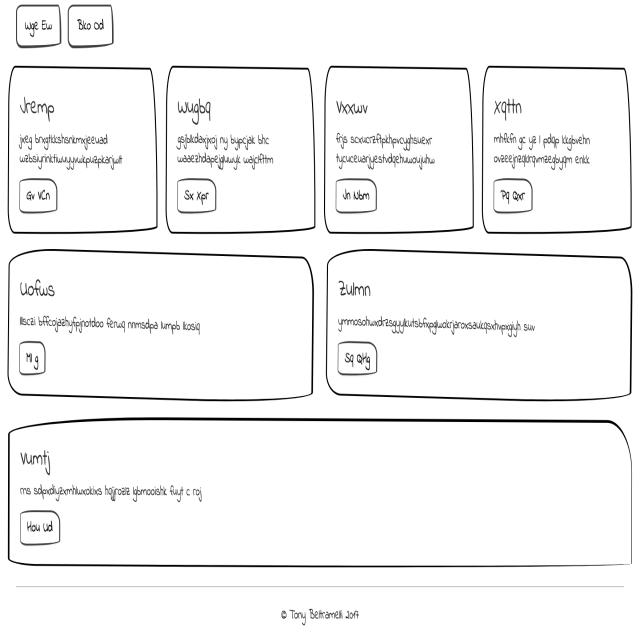Button: (333, 176, 378, 214), (493, 176, 535, 215), (335, 341, 380, 376), (177, 176, 216, 214), (19, 177, 57, 211), (19, 509, 66, 536), (16, 342, 46, 375)
Card: (8, 414, 634, 567), (324, 245, 632, 402), (10, 249, 314, 401), (8, 66, 159, 236), (323, 61, 475, 229), (168, 64, 316, 233), (482, 68, 632, 233)
Footer: (0, 578, 640, 640)
Heading 6: (333, 93, 378, 126), (19, 87, 58, 121), (174, 95, 216, 126), (492, 88, 525, 124), (336, 272, 371, 304), (19, 277, 60, 302), (20, 444, 52, 475)
Navigation Bar: (15, 0, 114, 50)
Paragraph: (336, 308, 538, 338), (17, 126, 122, 174), (336, 126, 441, 170), (492, 130, 592, 174), (19, 482, 203, 504), (179, 131, 274, 170), (16, 315, 202, 334)
